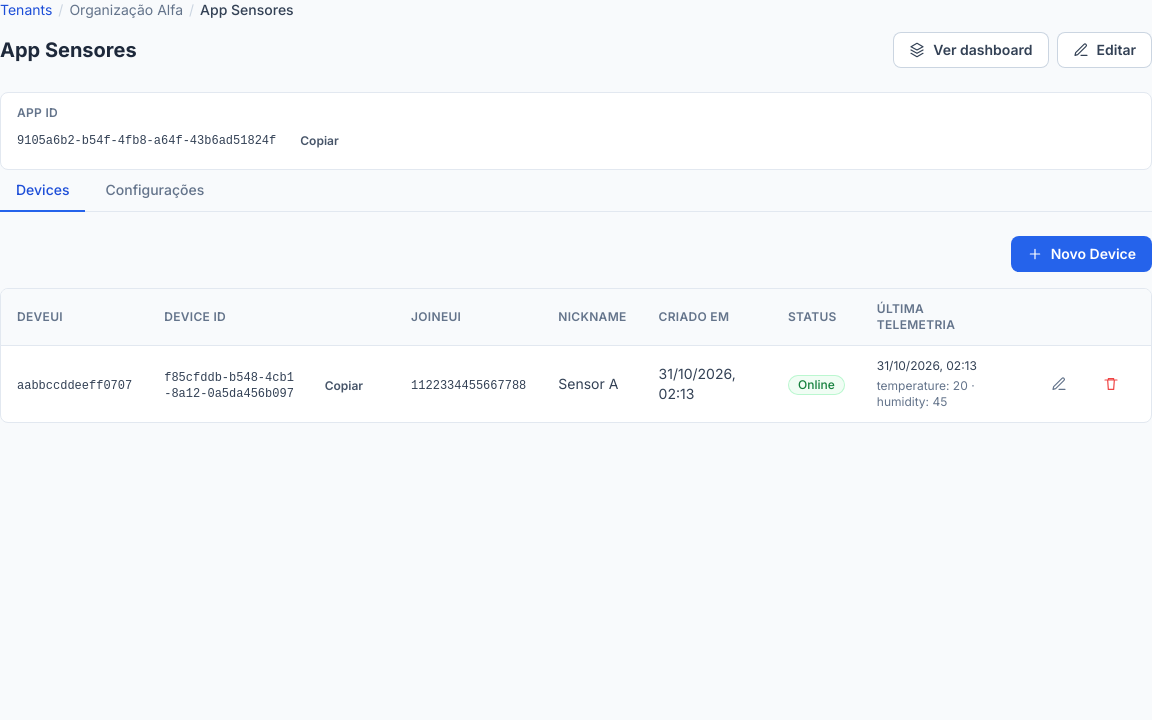
Scenario: ApplicationDetailPage › shows the nickname and edits it from the device table
Expected: the text "aabbccddeeff0707" is shown, [17,379,132,393]
Expected: the text "Sensor A" is shown, [542,346,643,422]
Click the button named "Editar nickname aabbccddeeff0707" at (1059, 384), box [1035,368,1083,400]
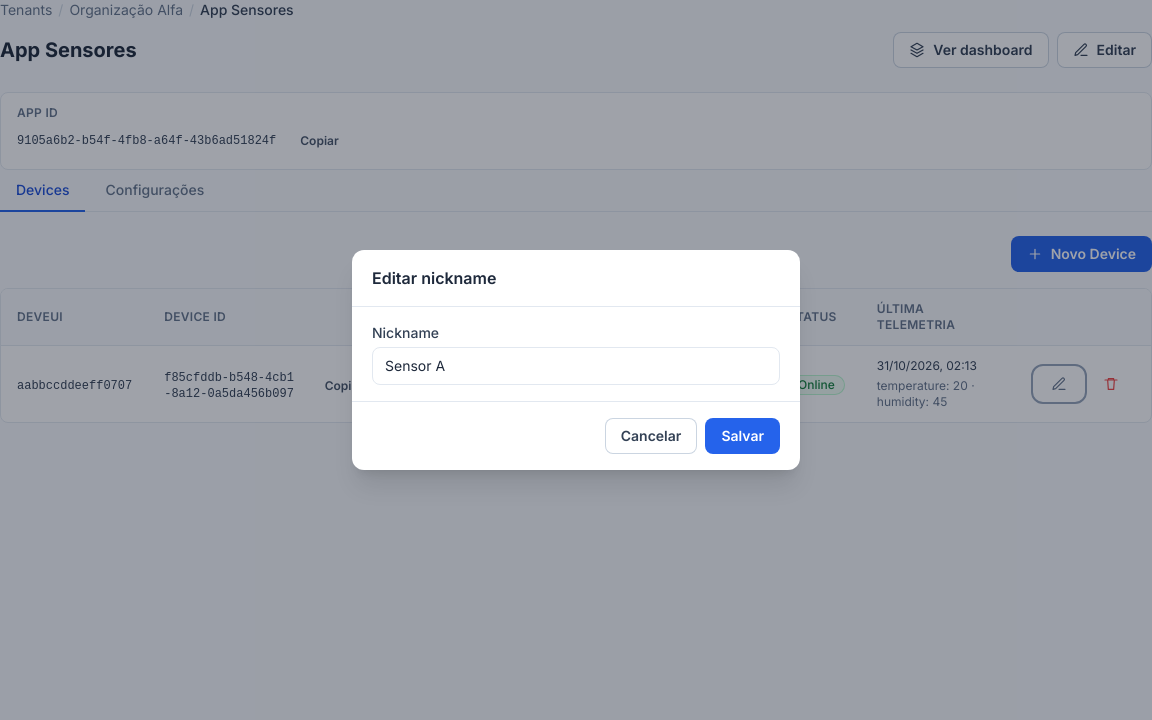
Replace the text in the field labelled "Nickname" with "Sensor B" at (576, 366), box [372,347,780,385]
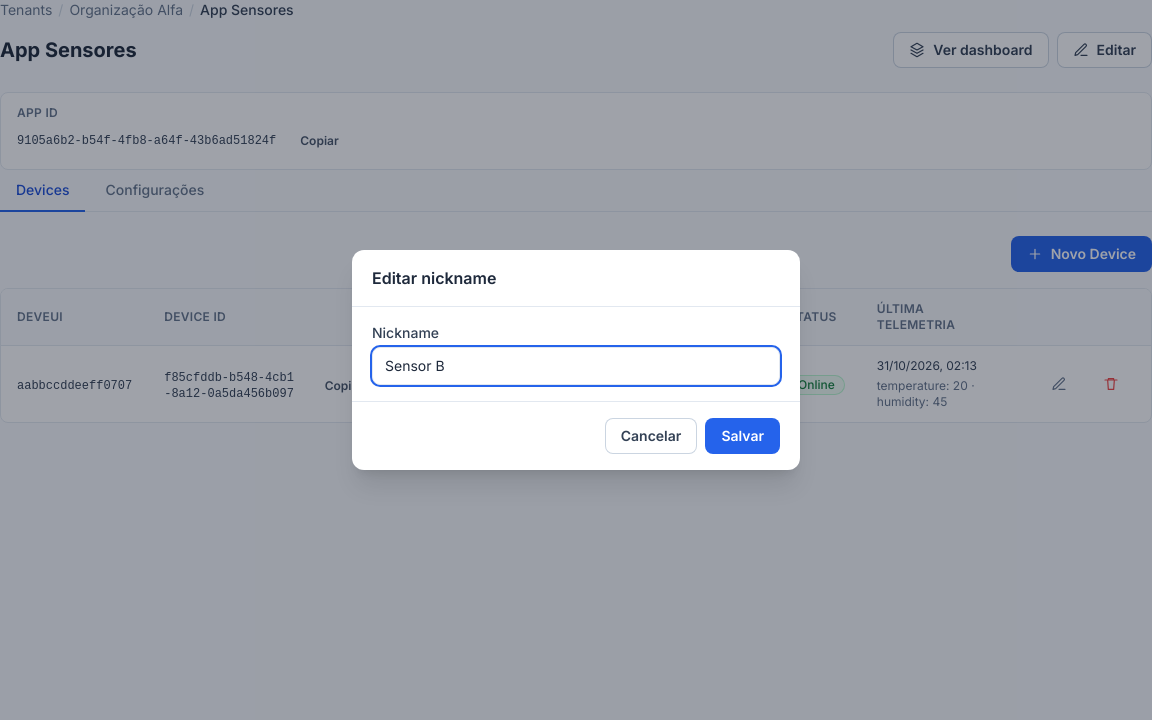
Click the button "Salvar" at (743, 436), box [705,418,780,454]
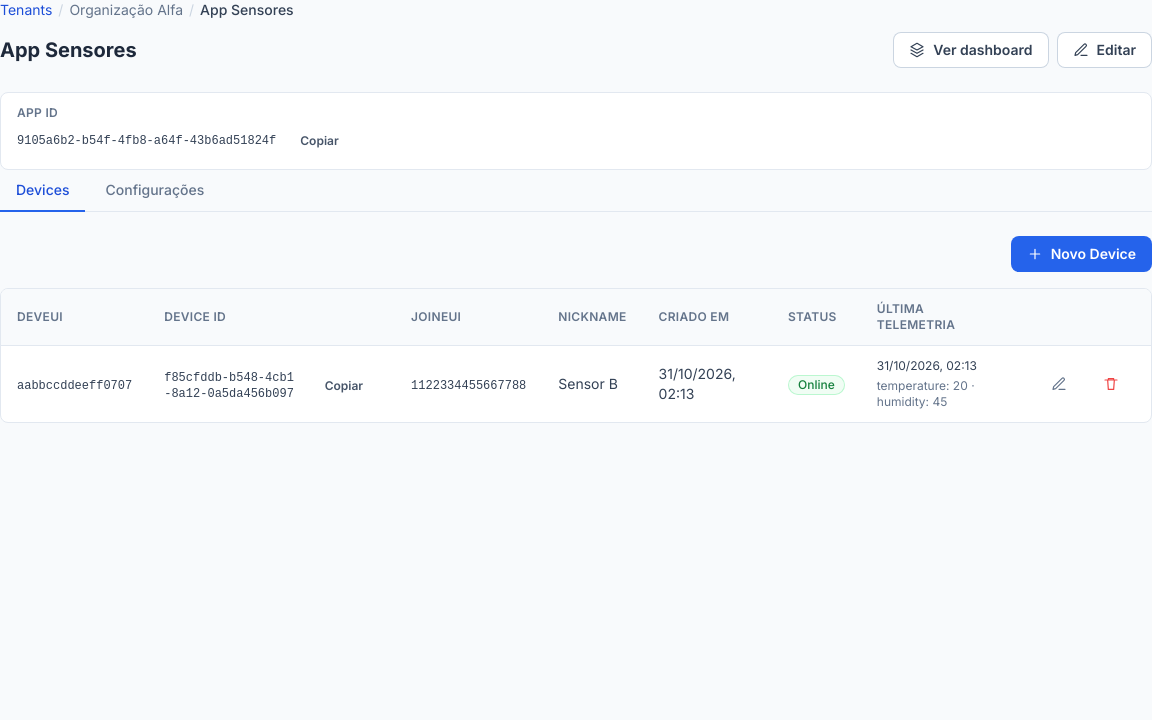
Result: the text "Sensor B" is shown at [542,346,643,422]
